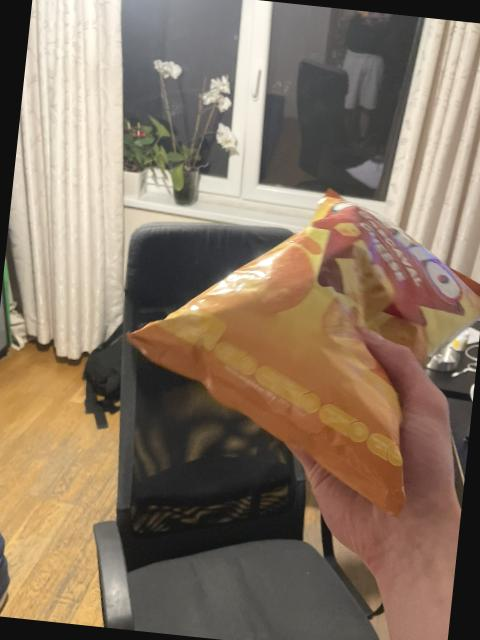Chio Cascaval 125g: (112, 179, 480, 524)
